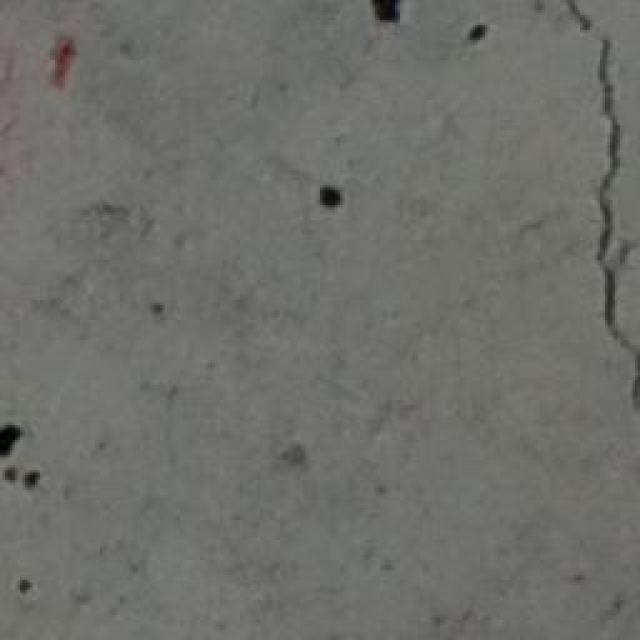Longitudinal: (544, 1, 640, 367)
